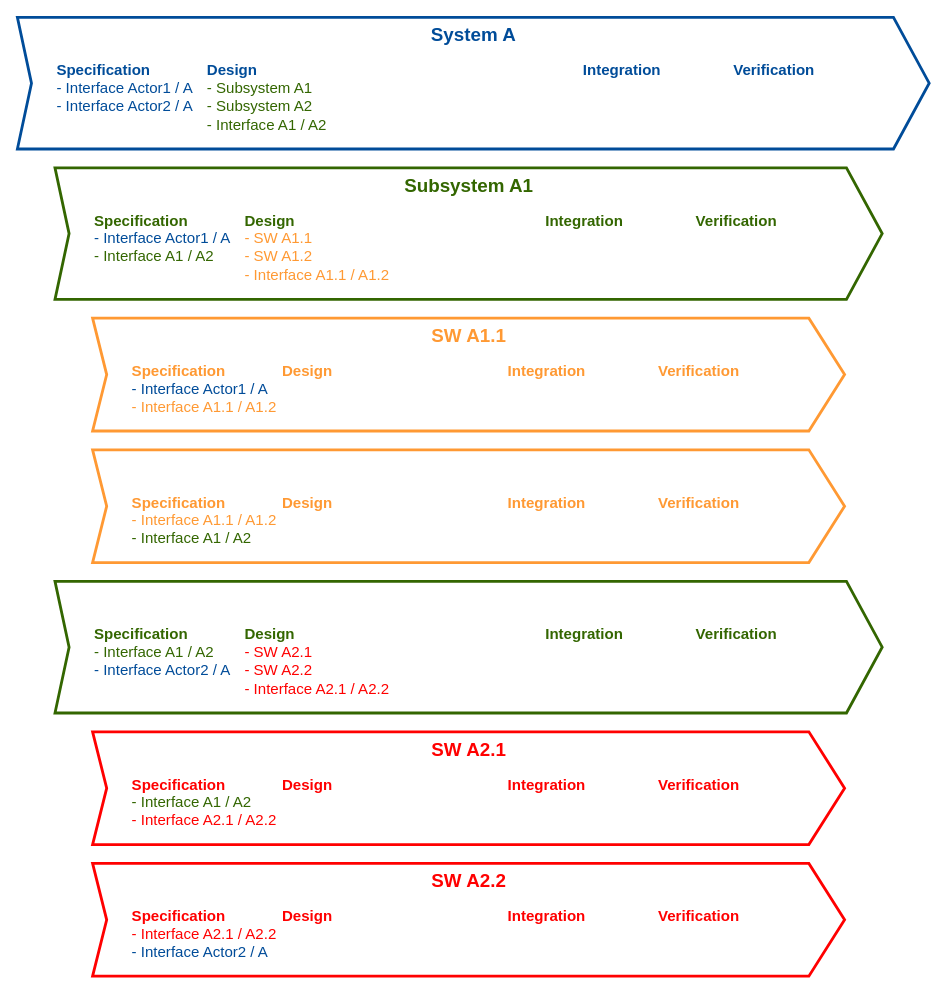
Image size: 947x994. Some labels were removed from this diagram. Here are the shapes that lost their labels. From the top down, the box of each, then its label:
(91, 448, 846, 564): SW A1.2
(53, 580, 883, 714): Subsystem A2
